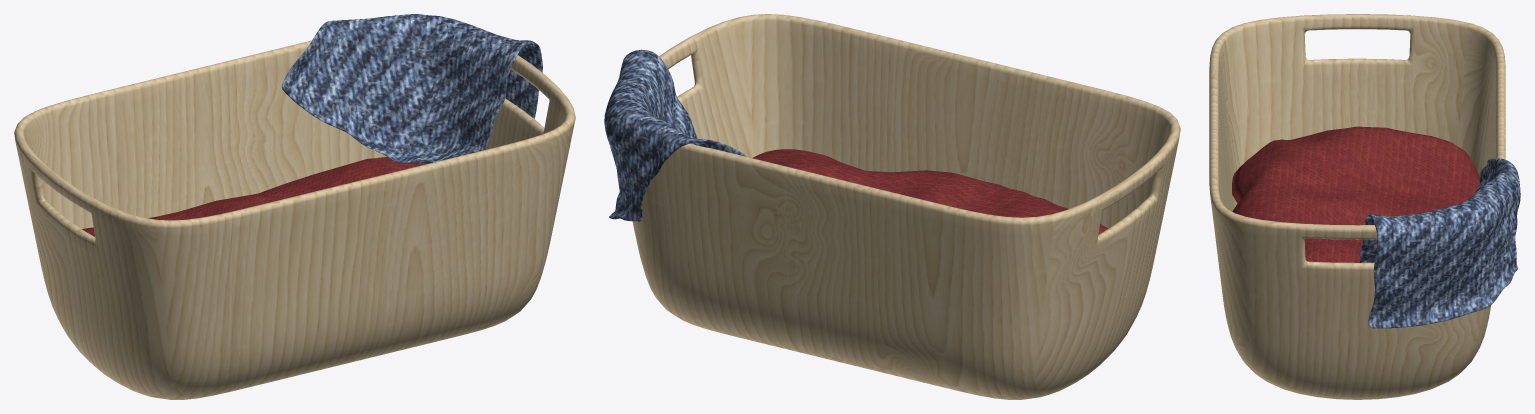
The model's file is laundry_basket.glb.
The picture shows the model from 3 angles, left to right: view 1: azimuth 30°, elevation 25°; view 2: azimuth 150°, elevation 25°; view 3: azimuth 270°, elevation 25°; orthographic projection. The views are drawn at different scales.
Parts seen in each view (by area): view 1: laundry_basket; view 2: laundry_basket; view 3: laundry_basket.
Part boxes in pixels (left/top/right/bottom): laundry_basket: left=14, top=14, right=575, bottom=399; laundry_basket: left=604, top=14, right=1180, bottom=399; laundry_basket: left=1209, top=14, right=1520, bottom=399.
Size of the model in its own units: 1.84 by 0.8384 by 1.08.
1 material, 1 textured.
